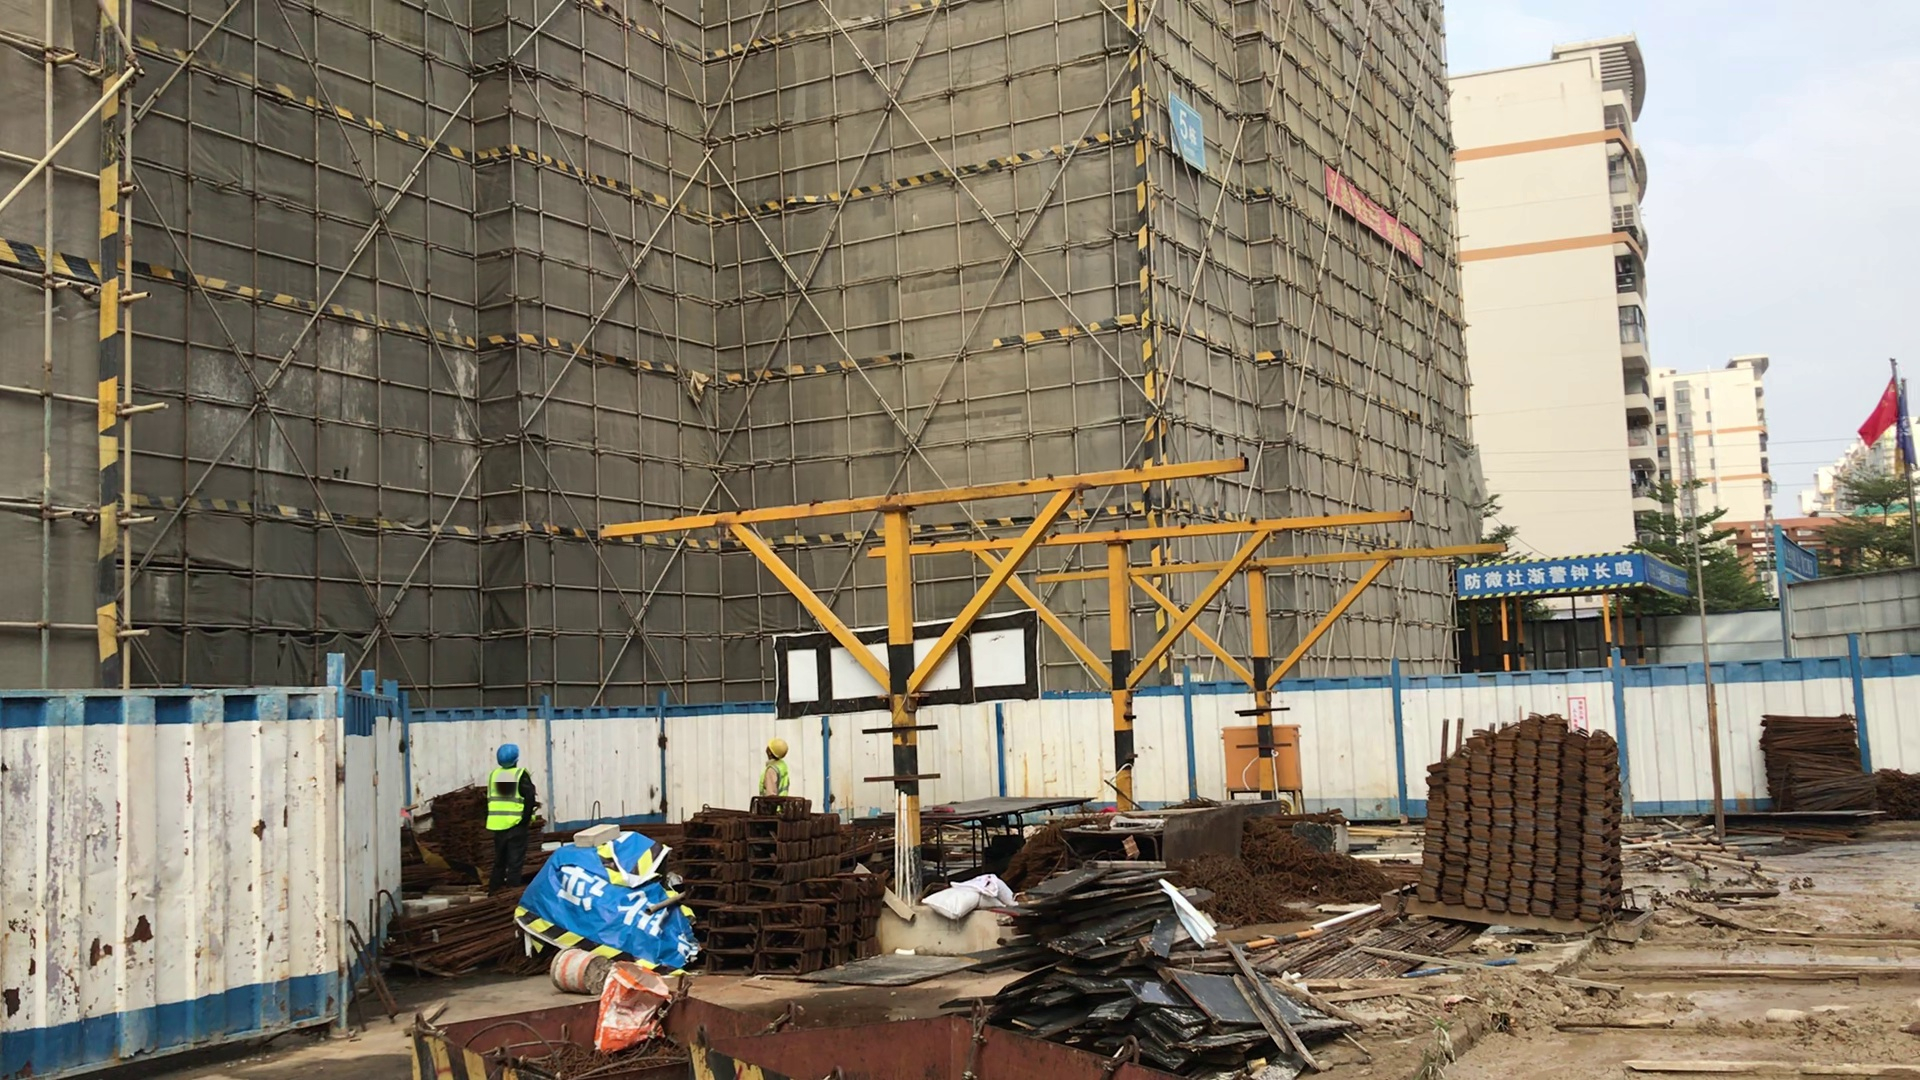ebox: (1281, 719, 1318, 806), (1222, 724, 1252, 804)
helmet: (766, 740, 788, 761), (495, 745, 520, 764)
hopper: (682, 1008, 1154, 1080), (378, 975, 673, 1080)
person: (482, 746, 540, 887), (759, 739, 791, 797)
rebar: (388, 897, 525, 986)
slogan: (1324, 171, 1424, 267), (1451, 554, 1637, 589), (1174, 101, 1211, 174), (1633, 552, 1692, 597), (1776, 534, 1814, 579)
vest: (486, 768, 530, 831), (761, 761, 793, 798)
